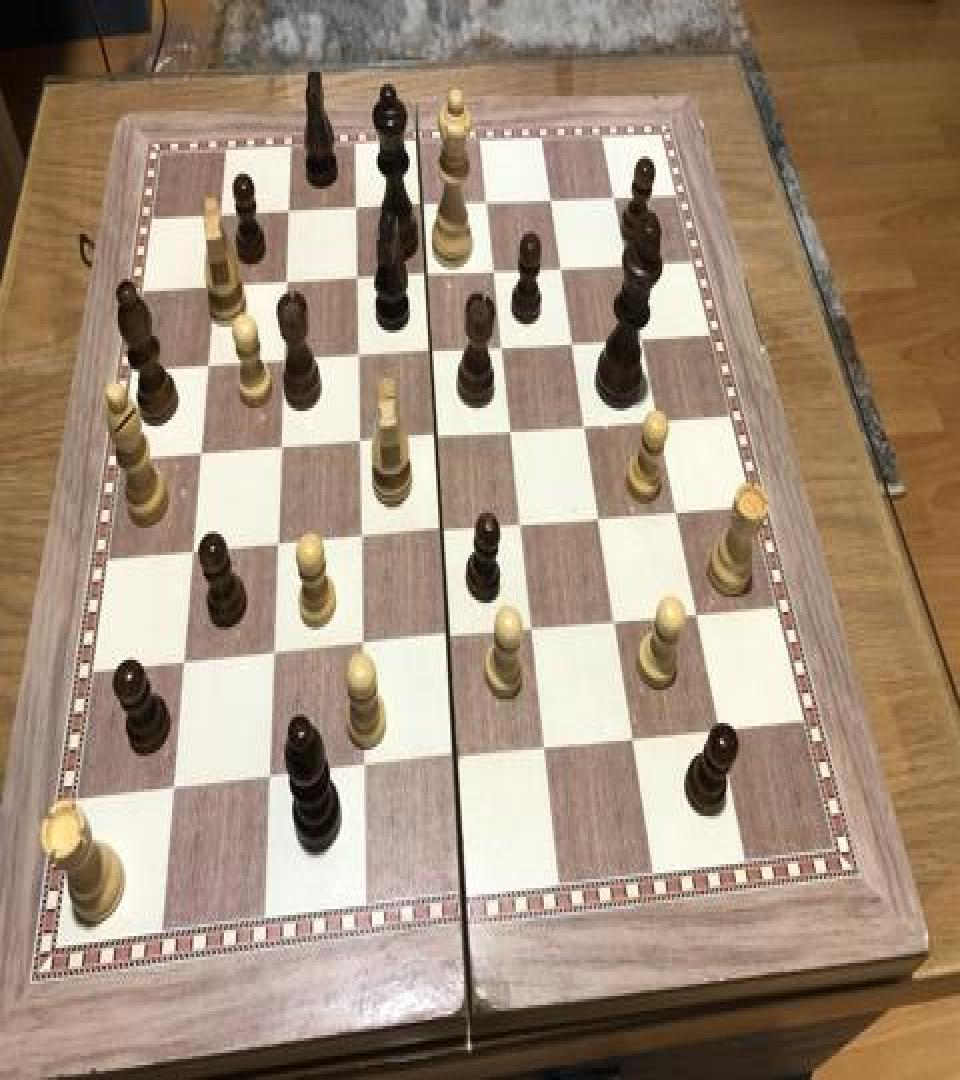xcorner: (437, 616, 461, 653), (351, 625, 375, 662), (534, 727, 558, 764), (352, 748, 376, 785), (162, 769, 186, 806), (601, 174, 625, 210), (538, 177, 562, 213), (475, 180, 499, 216), (410, 183, 434, 219), (345, 186, 369, 222), (278, 190, 302, 226), (211, 194, 235, 230), (614, 242, 638, 278), (549, 246, 573, 282), (482, 249, 506, 285), (415, 254, 439, 290), (346, 256, 370, 292), (276, 261, 300, 297), (205, 264, 229, 300), (629, 315, 653, 351), (560, 320, 584, 356), (490, 324, 514, 360), (419, 330, 443, 366), (347, 334, 371, 370), (273, 339, 297, 375), (645, 398, 669, 434), (573, 404, 597, 440), (499, 408, 523, 444), (424, 414, 448, 450), (348, 420, 372, 456), (270, 426, 294, 462), (191, 432, 215, 468), (664, 489, 688, 525), (587, 495, 611, 531), (509, 502, 533, 538), (430, 510, 454, 546), (349, 516, 373, 552), (267, 524, 291, 560), (182, 531, 206, 567), (684, 591, 708, 627), (603, 600, 627, 636), (521, 608, 545, 644), (263, 634, 287, 670), (173, 644, 197, 680), (707, 706, 731, 742), (621, 717, 645, 753), (444, 738, 468, 774), (258, 759, 282, 795), (198, 344, 222, 379)
